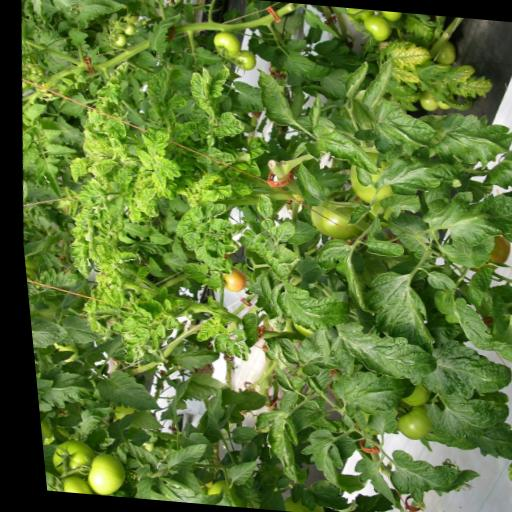Healthy: (354, 270, 436, 356), (413, 186, 512, 252), (375, 446, 476, 508), (335, 326, 434, 387), (320, 368, 414, 424), (267, 278, 347, 334), (86, 366, 158, 410), (289, 160, 329, 206), (456, 262, 492, 310), (154, 440, 200, 474), (216, 457, 250, 486), (359, 236, 401, 257), (418, 269, 454, 292), (220, 424, 252, 446)
Yellow Leaf Curl Virus: (60, 225, 89, 279), (185, 64, 215, 112), (253, 244, 289, 280), (201, 214, 245, 242), (209, 109, 248, 140), (141, 64, 170, 102), (138, 126, 171, 158), (170, 258, 209, 285), (188, 250, 230, 274), (206, 60, 231, 98), (93, 112, 126, 140), (72, 176, 102, 206), (264, 242, 296, 267), (128, 296, 161, 320), (184, 318, 212, 346), (240, 134, 270, 160), (166, 120, 197, 144), (87, 154, 117, 178), (116, 324, 145, 348), (63, 156, 87, 184), (196, 237, 224, 261), (92, 81, 121, 104), (192, 166, 222, 188), (151, 156, 181, 178), (91, 210, 113, 240), (249, 193, 274, 219), (202, 146, 234, 166), (266, 220, 292, 244), (170, 211, 193, 238), (104, 244, 134, 264), (129, 182, 158, 202), (76, 314, 104, 334), (174, 230, 198, 252), (182, 202, 202, 228), (101, 282, 120, 309), (135, 196, 158, 218), (199, 270, 221, 293), (204, 331, 225, 354), (144, 169, 166, 189), (121, 202, 141, 224), (128, 262, 150, 282), (139, 326, 155, 353), (112, 314, 133, 334), (130, 148, 151, 168), (72, 292, 93, 312), (157, 314, 178, 334), (192, 187, 217, 203), (228, 179, 250, 197), (141, 104, 161, 123), (248, 240, 263, 258), (72, 206, 88, 222), (147, 323, 162, 339), (149, 284, 164, 298)
